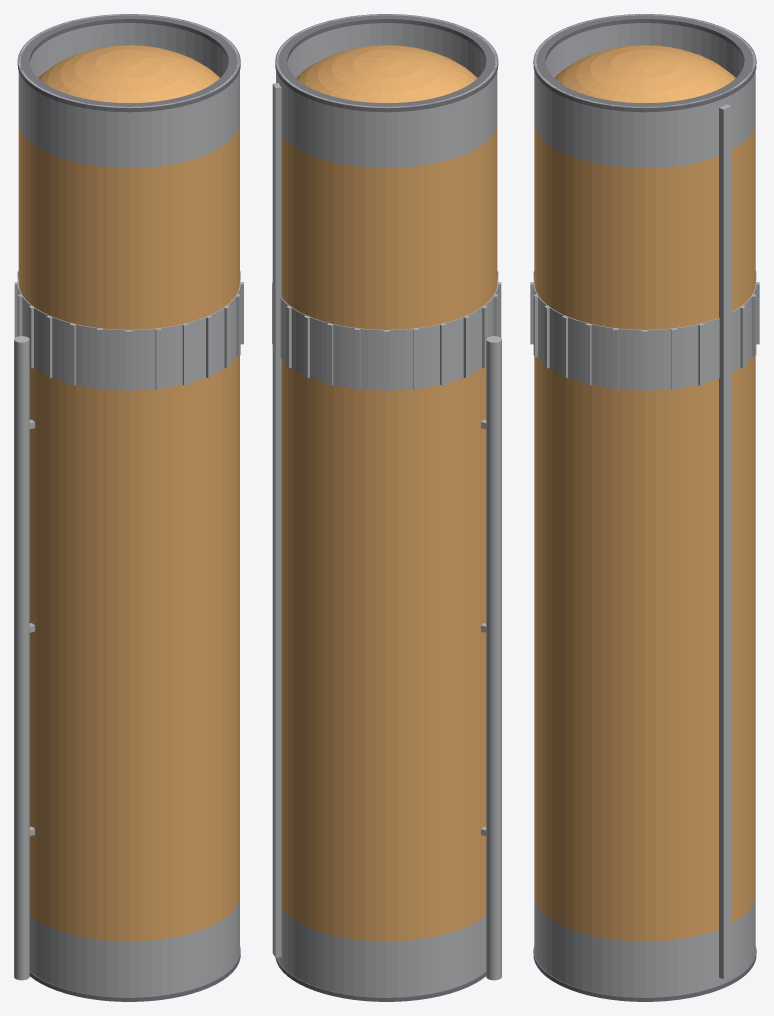
The model's file is tank02_hydrolox_m.glb.
3 renders of one model, left to right at view 1: azimuth 30°, elevation 25°; view 2: azimuth 150°, elevation 25°; view 3: azimuth 270°, elevation 25°, orthographic.
Visible parts, largest first — view 1: tank, skirts, intertank, lox_feedline, stack_flanges; view 2: tank, skirts, intertank, lox_feedline, raceway, stack_flanges; view 3: tank, skirts, intertank, raceway, stack_flanges.
Boxes of the visible parts, x1,y1,x2,y2 form: tank: (18,45,239,941); skirts: (18,14,239,997); intertank: (14,271,243,391); lox_feedline: (14,336,34,980); stack_flanges: (17,14,240,1001); tank: (281,45,497,941); skirts: (276,14,497,997); intertank: (272,271,501,391); lox_feedline: (481,336,501,980); raceway: (272,83,281,957); stack_flanges: (275,14,498,1001); tank: (534,45,755,941); skirts: (534,14,755,997); intertank: (530,271,759,391); raceway: (719,104,731,979); stack_flanges: (533,14,756,1001).
Bounding box in the file's own units: 2.78 × 11.14 × 2.59.
